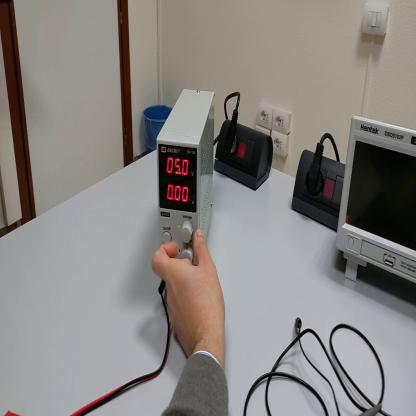hand: (154, 232, 227, 355)
oscilloscope: (339, 111, 416, 288)
power supply: (159, 90, 218, 265)
socket: (292, 149, 347, 235), (215, 121, 275, 193)
